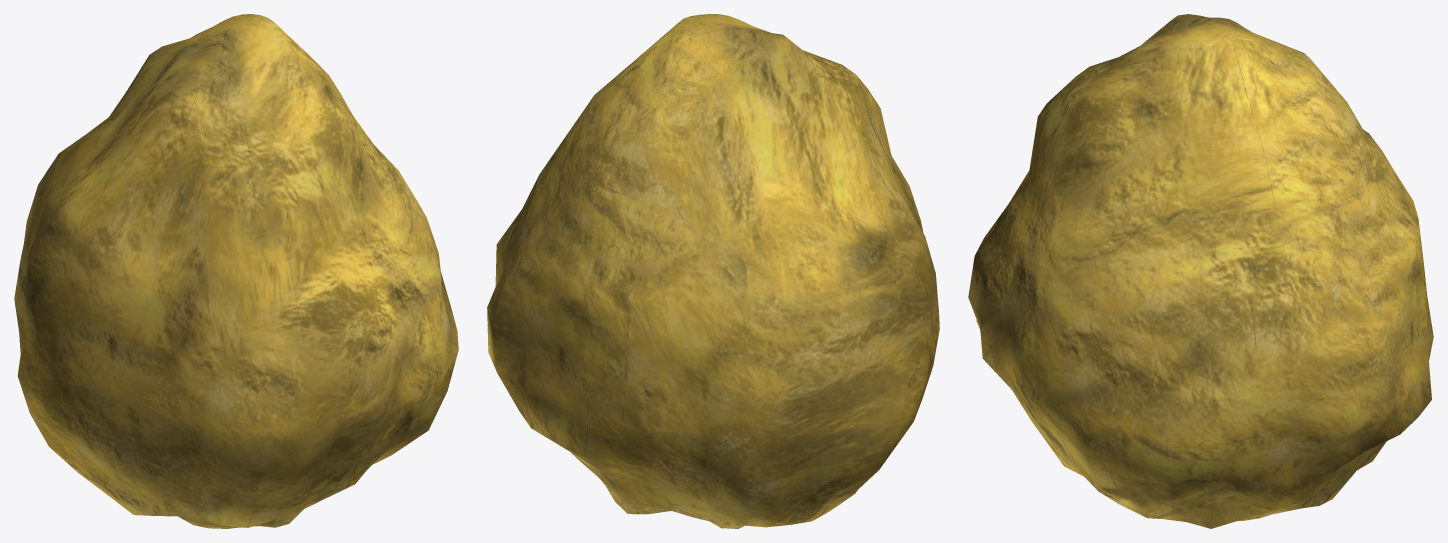
The model's file is goldOre.dae.
The picture shows the model from 3 angles, left to right: view 1: azimuth 30°, elevation 25°; view 2: azimuth 150°, elevation 25°; view 3: azimuth 270°, elevation 25°; orthographic projection.
Parts seen in each view (by area): view 1: Sphere; view 2: Sphere; view 3: Sphere.
Boxes of the visible parts, left/top/right/bottom form: Sphere: left=14, top=14, right=458, bottom=528; Sphere: left=487, top=14, right=939, bottom=528; Sphere: left=968, top=14, right=1433, bottom=528.
Bounding box in the file's own units: 2.15 × 2.14 × 2.47.
Materials: 1 (1 with a texture image).
